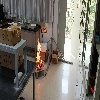fire: (36, 37, 42, 70)
